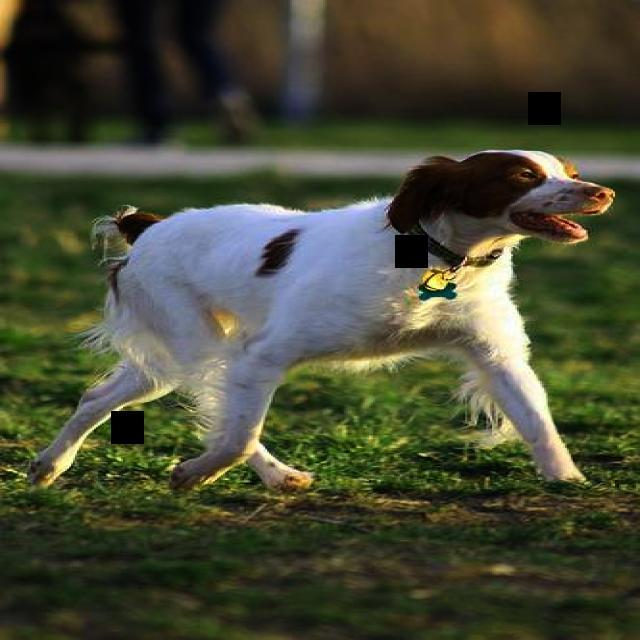adult_dog: (28, 145, 617, 496)
